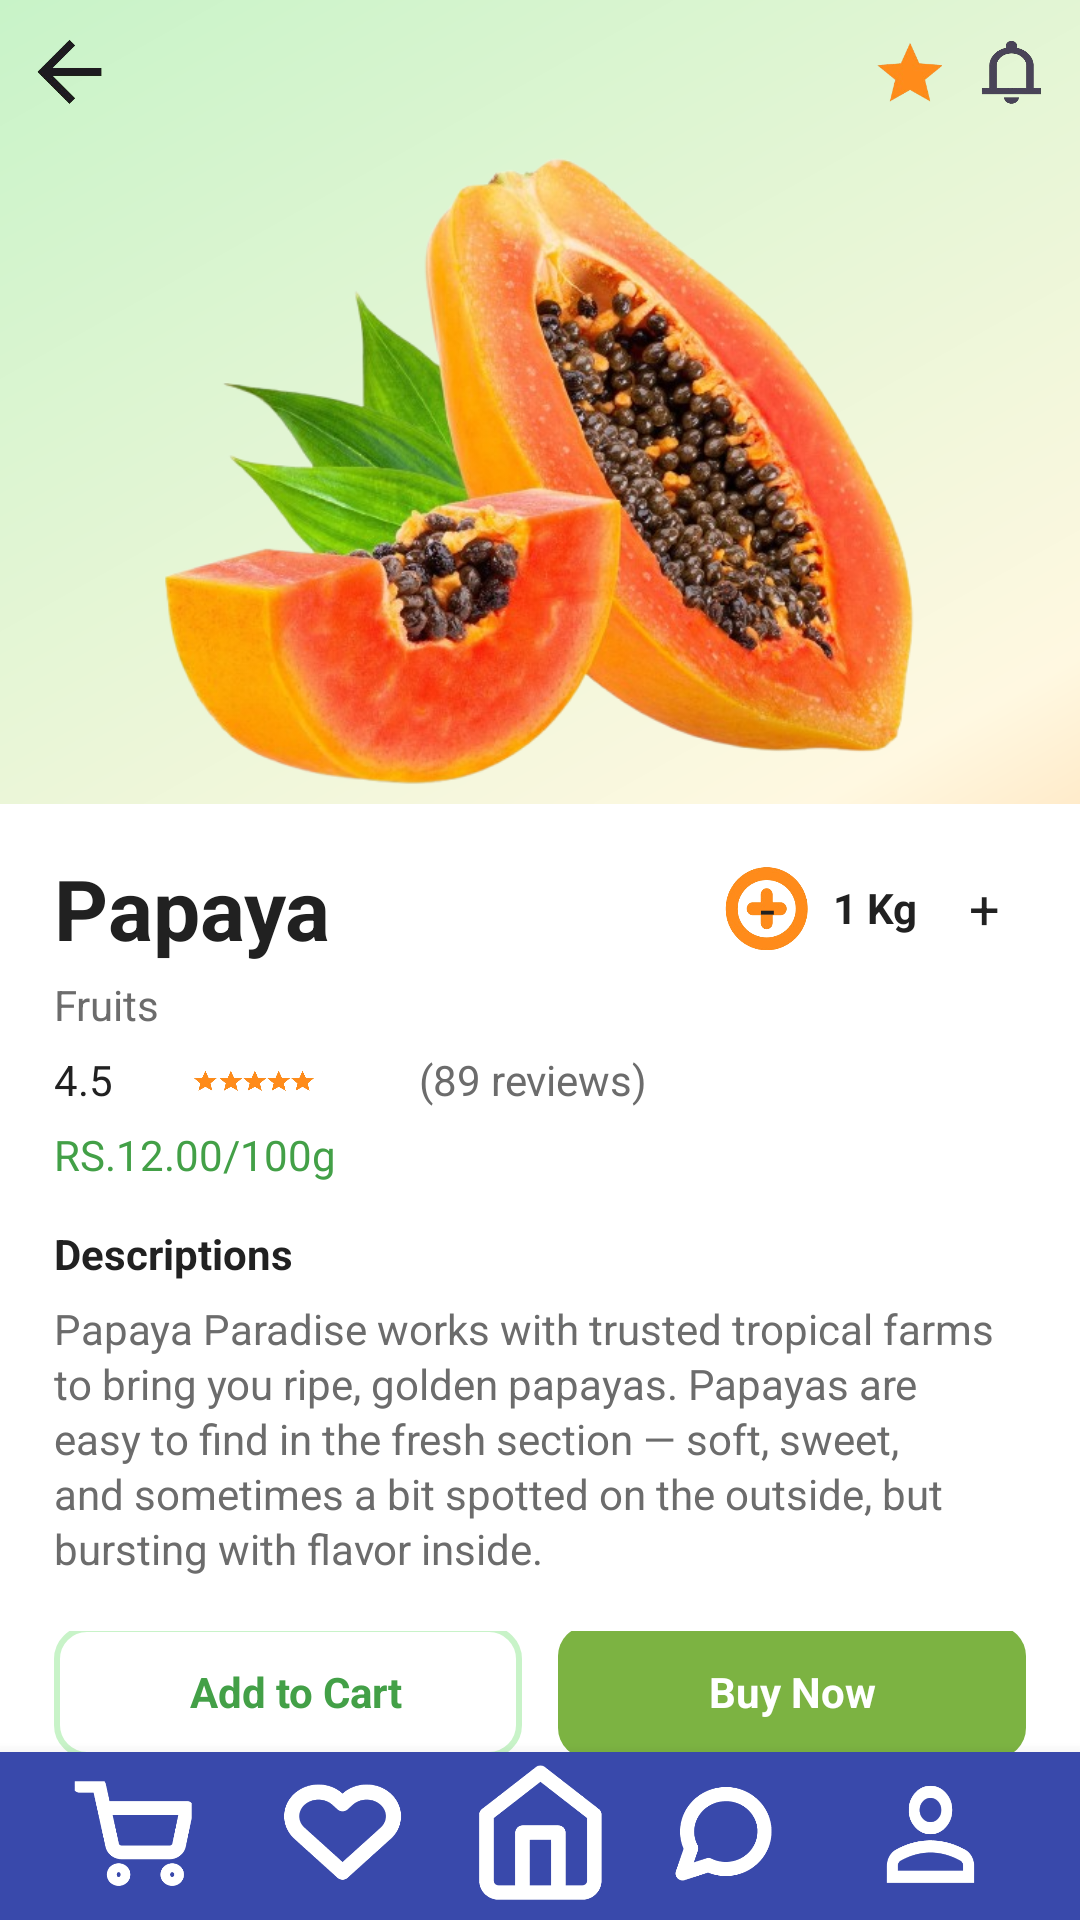

Icon click points for this 1080×1920 phone screenshot, format [x,y]:
back arrow: [70,72]
bell: [1011,72]
five stars: [254,1081]
menu cart: [133,1833]
menu home: [540,1832]
menu profile: [930,1834]
menu wishlist: [342,1832]
star: [909,72]
